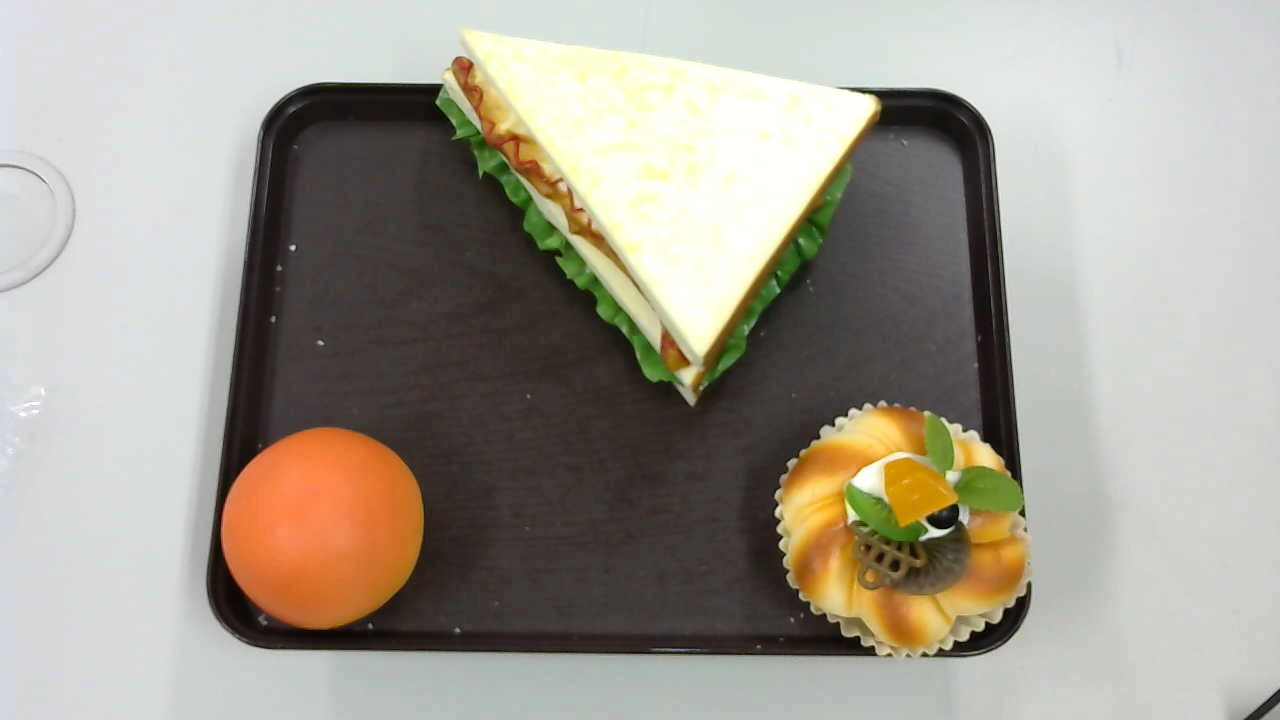bun: (220, 426, 425, 633)
fruit tart: (775, 400, 1039, 657)
sandwich: (436, 24, 882, 408)
